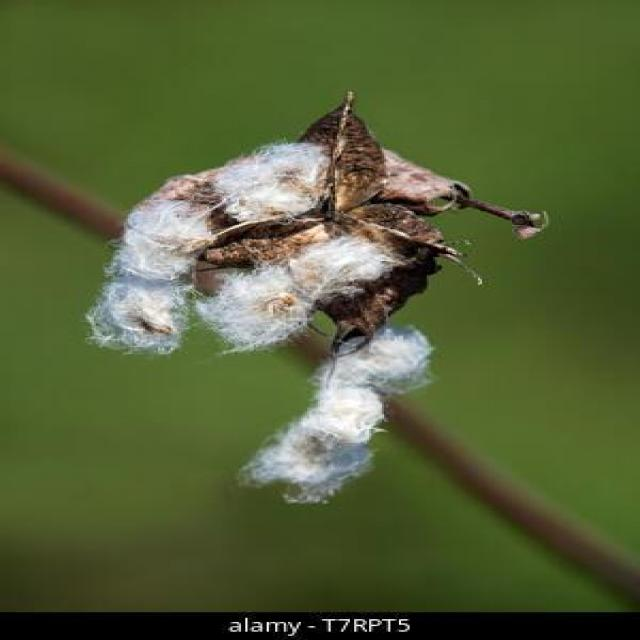Late_blight: (90, 113, 472, 496)
